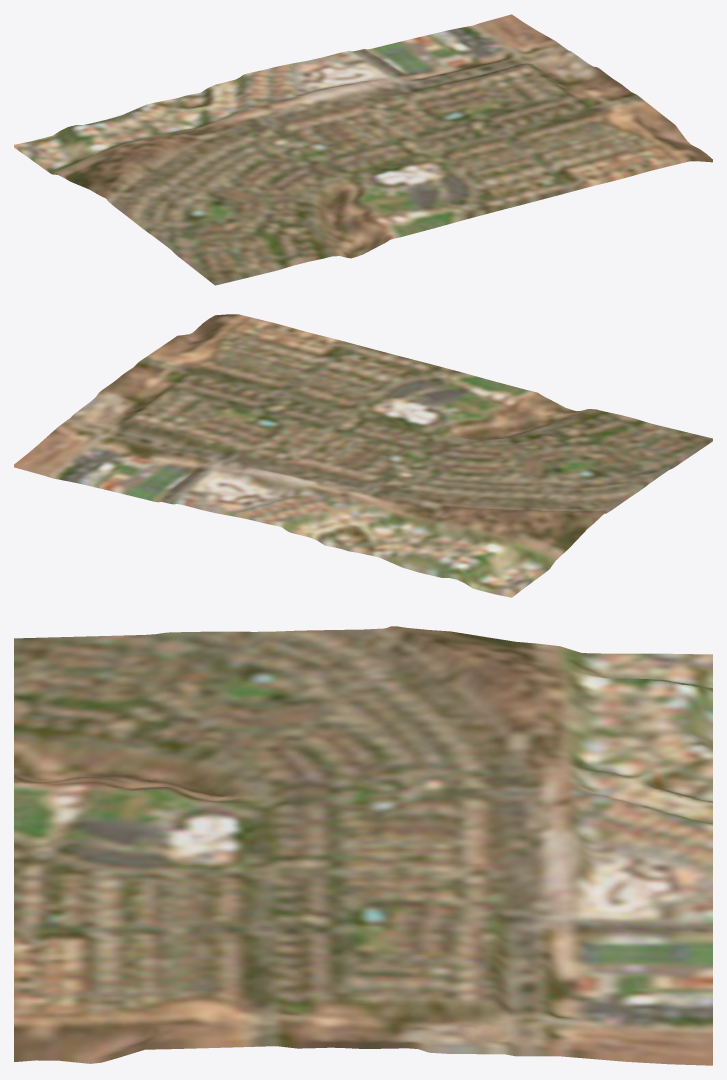
Rendered from terrain_r3_c2_lod1.glb.
3 views of the same model, one above another, from view 1: azimuth 30°, elevation 25°; view 2: azimuth 150°, elevation 25°; view 3: azimuth 270°, elevation 25° (orthographic). The views are drawn at different scales.
Parts seen in each view (by area): view 1: terrain_r3_c2_lod1; view 2: terrain_r3_c2_lod1; view 3: terrain_r3_c2_lod1.
Boxes of the visible parts, <box> form: terrain_r3_c2_lod1: <box>14,14,712,285</box>; terrain_r3_c2_lod1: <box>14,314,712,597</box>; terrain_r3_c2_lod1: <box>14,626,712,1065</box>.
Bounding box in the file's own units: 1125 × 51.16 × 787.
Materials: 1 (1 with a texture image).
